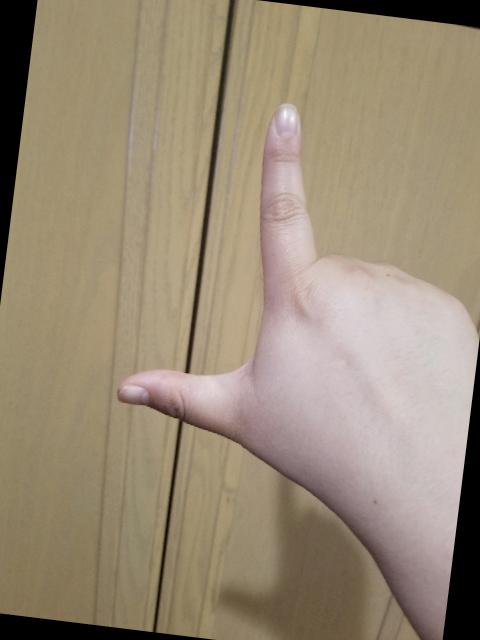L: (94, 76, 480, 537)
